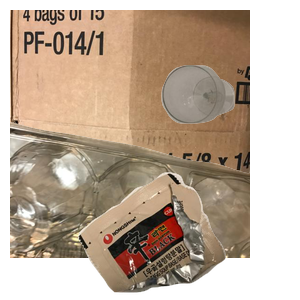cardboard: (10, 10, 250, 190)
glass: (159, 63, 300, 179)
plastic: (10, 120, 250, 300)
trash: (76, 170, 300, 300)
